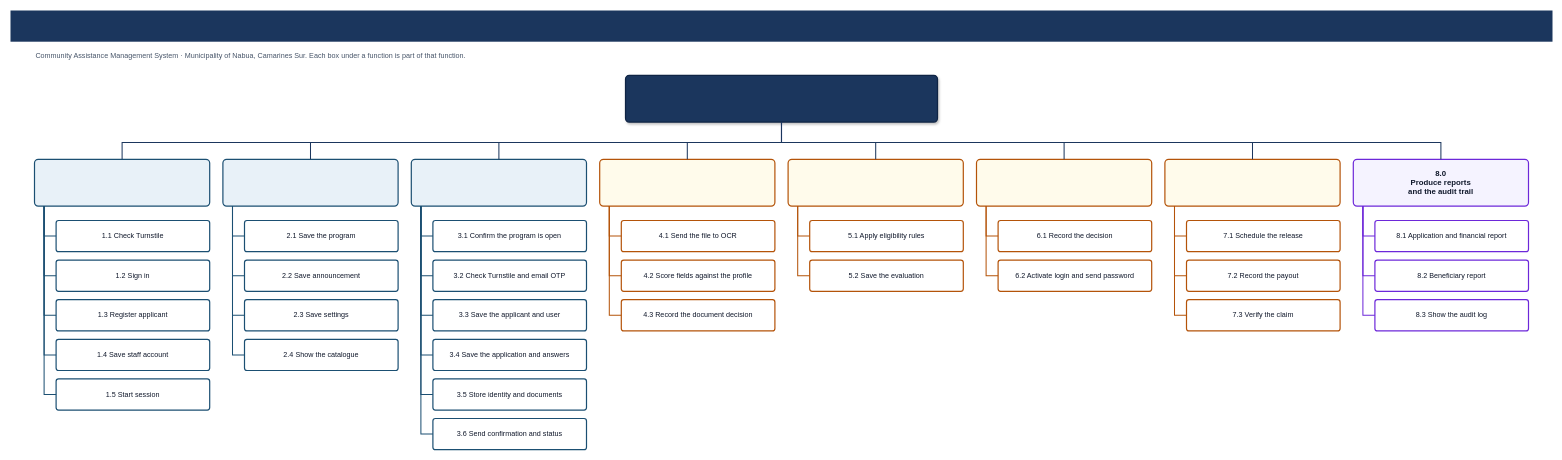
Image size: 1562x460. Some labels were removed from this diagram. The shapes that lost their labels are listed below. From the top down, each one's centre as x and y in pixels, then its label:
At [781,25]: "LYDO Nabua · functional decomposition".
At [781,99]: "LYDO CAMS Community Assistance Management System".
At [122,182]: "1.0 Authenticate and register accounts".
At [310,182]: "2.0 Publish programs and announcements".
At [498,182]: "3.0 Capture and track applications".
At [687,182]: "4.0 Verify documents".
At [875,182]: "5.0 Assess eligibility".
At [1064,182]: "6.0 Approve or return applications".
At [1252,182]: "7.0 Release assistance".
